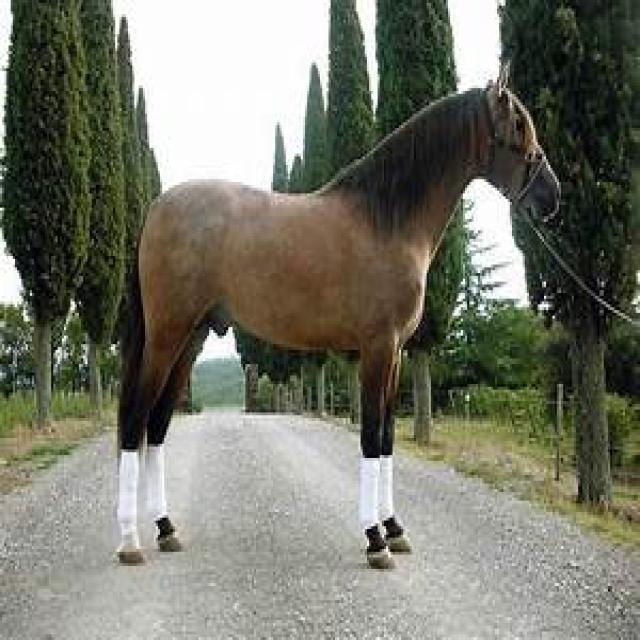horse: (118, 83, 560, 568)
